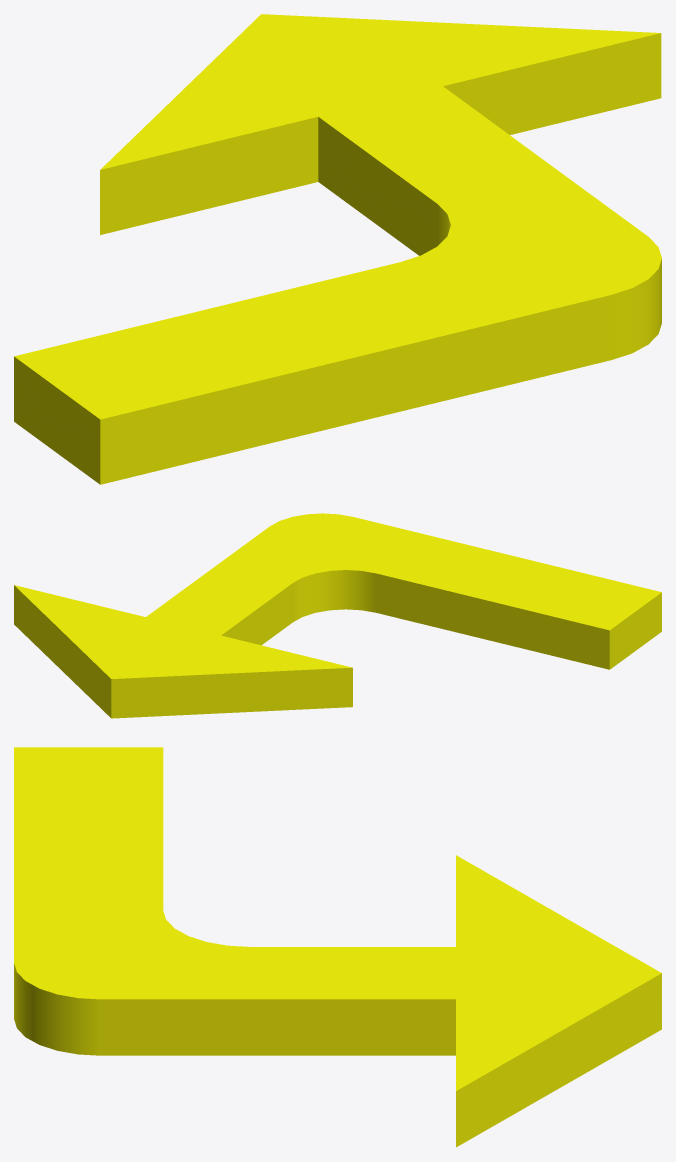
The model's file is 黄色左转剪头.FBX.
3 views of the same model, one above another, from view 1: azimuth 30°, elevation 25°; view 2: azimuth 150°, elevation 25°; view 3: azimuth 270°, elevation 25° (orthographic). The views are drawn at different scales.
Parts seen in each view (by area): view 1: *SOL463; view 2: *SOL463; view 3: *SOL463.
Boxes of the visible parts, x1,y1,x2,y2 form: *SOL463: [14, 14, 661, 484]; *SOL463: [14, 513, 661, 718]; *SOL463: [14, 747, 661, 1147].
Bounding box in the file's own units: 2.58 × 0.1969 × 2.05.
